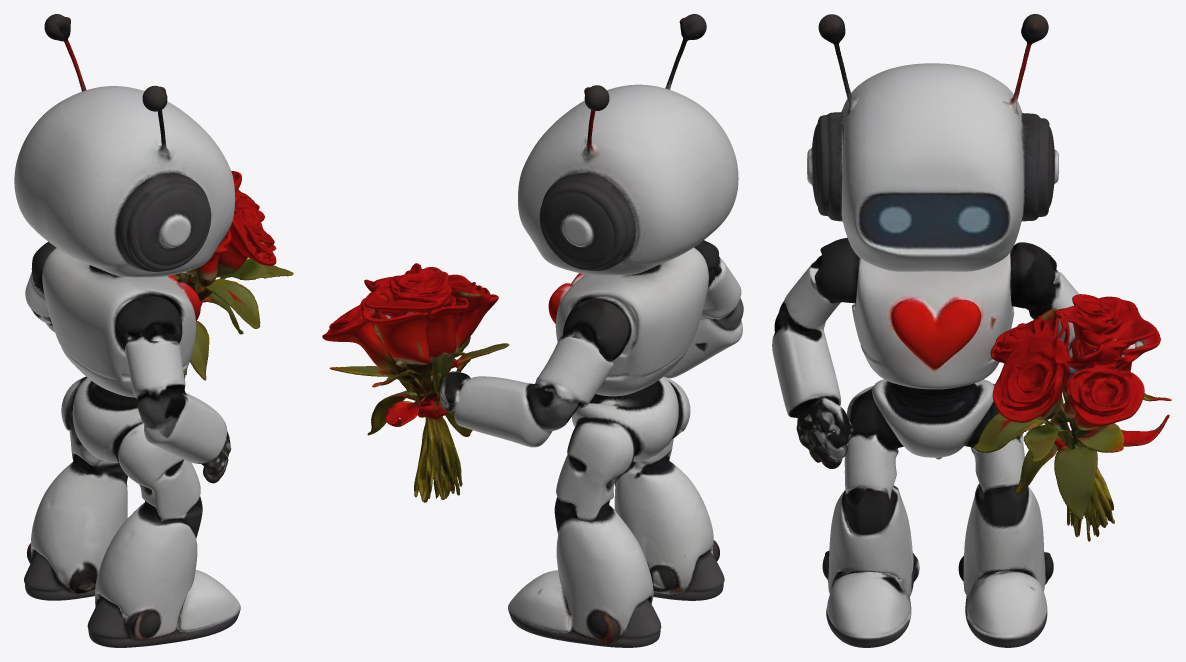
The model's file is robot1.glb.
The picture shows the model from 3 angles, left to right: view 1: azimuth 30°, elevation 25°; view 2: azimuth 150°, elevation 25°; view 3: azimuth 270°, elevation 25°; orthographic projection. The views are drawn at different scales.
Parts seen in each view (by area): view 1: tripo_node_274d2df1-0951-476a-b699-903930cc0d53; view 2: tripo_node_274d2df1-0951-476a-b699-903930cc0d53; view 3: tripo_node_274d2df1-0951-476a-b699-903930cc0d53.
Part boxes in pixels (box(x1,y1,x2,y2)): tripo_node_274d2df1-0951-476a-b699-903930cc0d53: box(14, 14, 293, 647); tripo_node_274d2df1-0951-476a-b699-903930cc0d53: box(322, 14, 743, 647); tripo_node_274d2df1-0951-476a-b699-903930cc0d53: box(772, 14, 1171, 647).
Bounding box in the file's own units: 0.5632 × 1 × 0.6172.
Materials: 1 (1 with a texture image).
